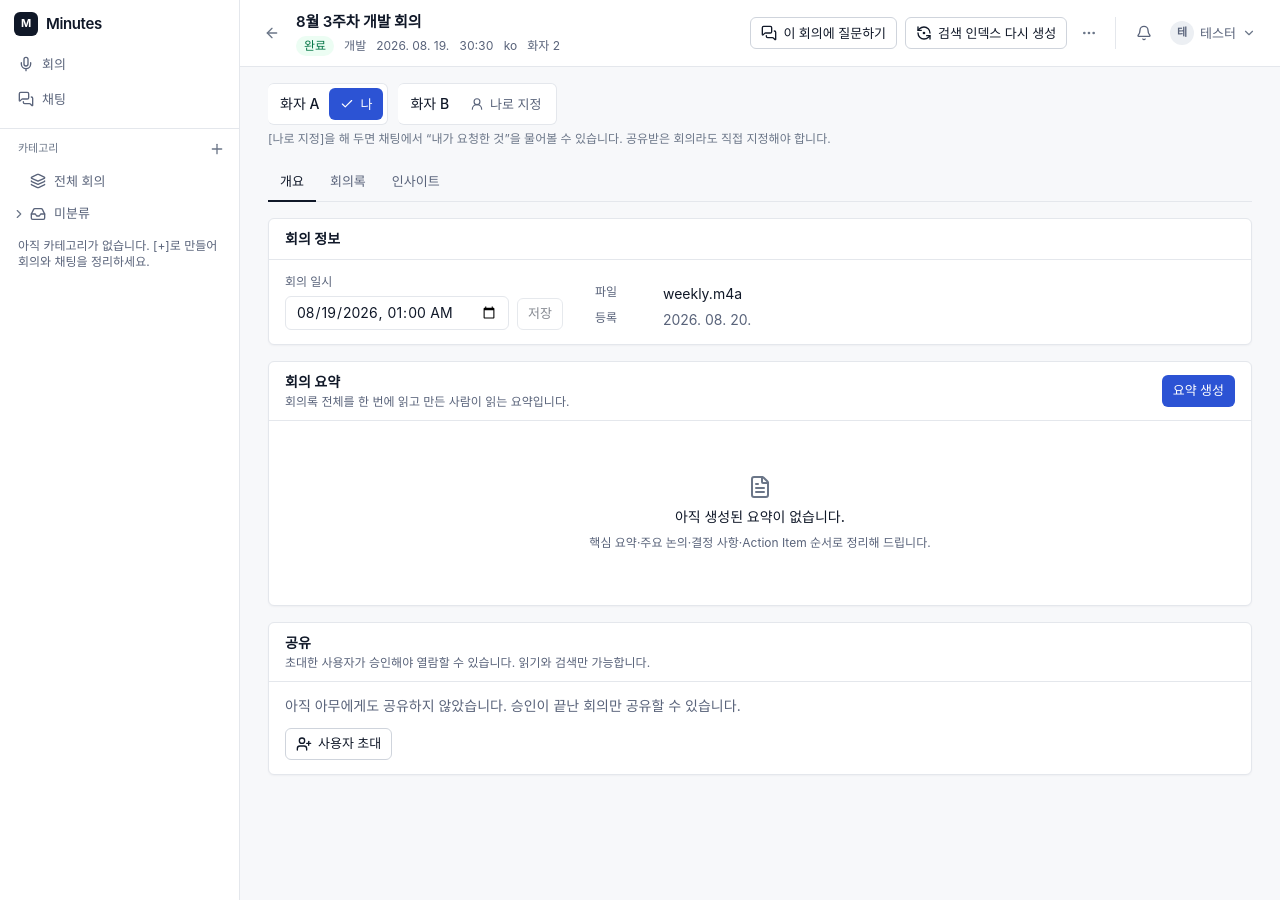
Test case: 공유 관리 (소유자) › 이미 초대한 사용자에게는 초대 버튼 대신 상태를 보여준다
This screenshot has width=1280, height=900.
Click the button "사용자 초대" at (339, 744), box [285,728,392,760]
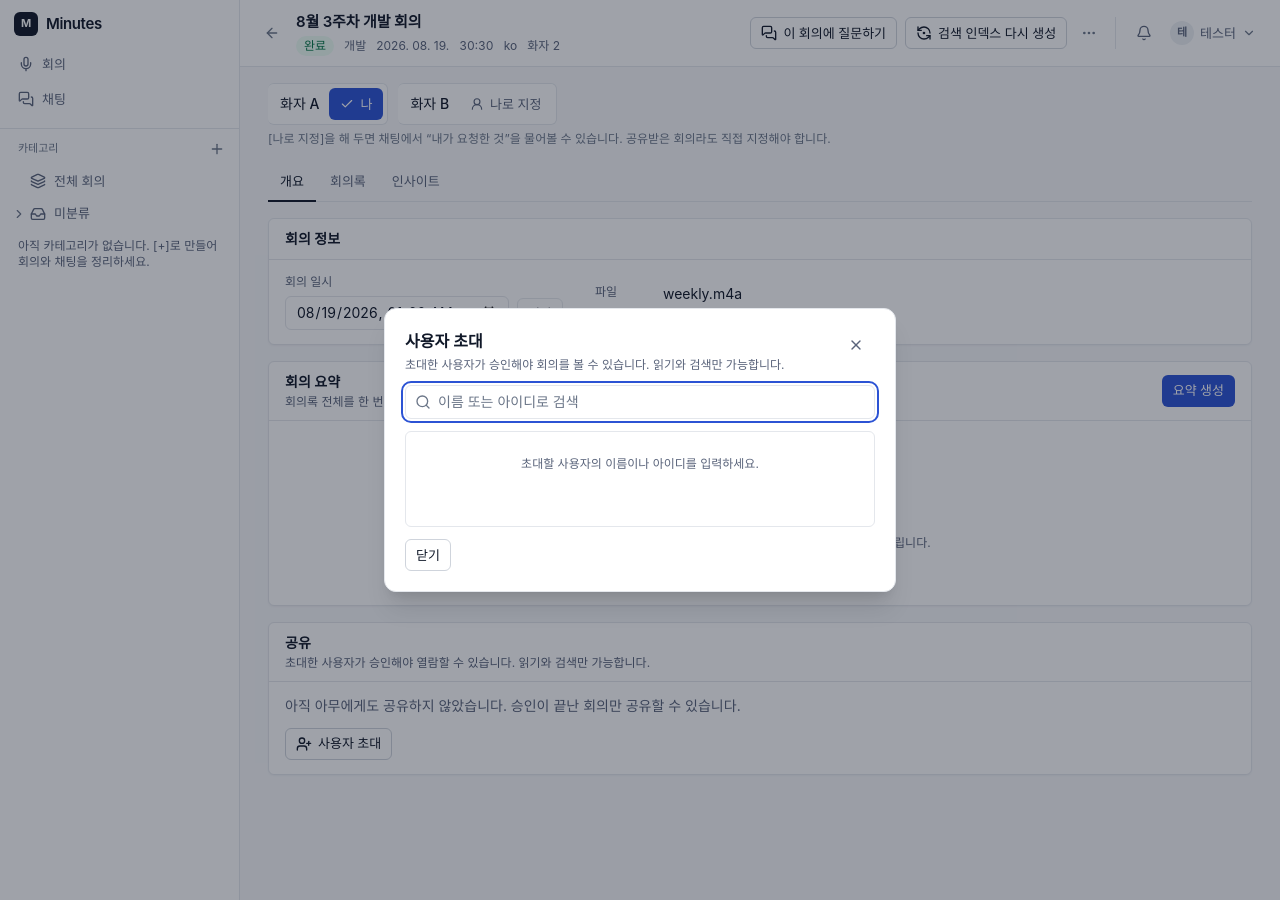
Type "user2" into the field named "사용자 검색" at (640, 402), box [405,385,875,419]
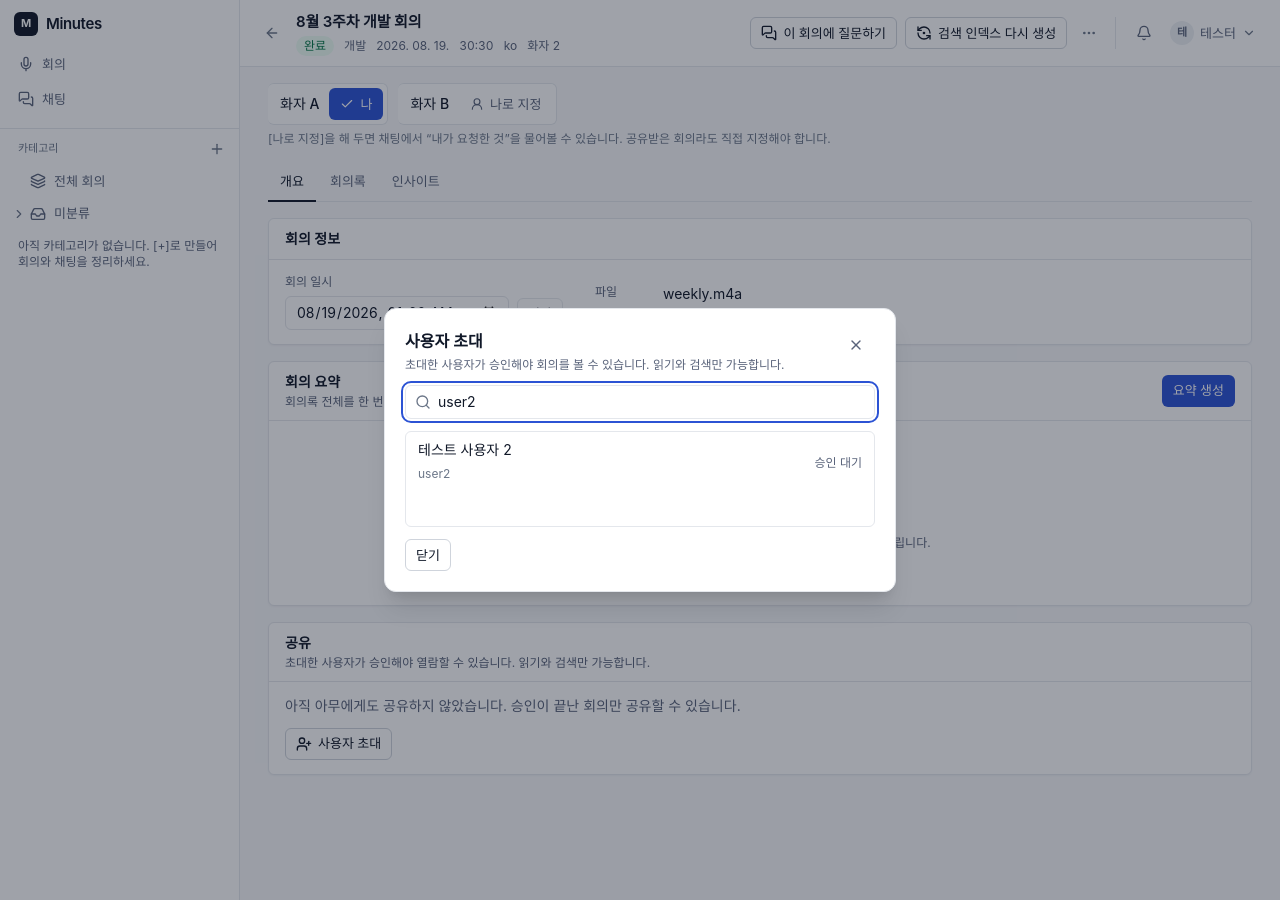
Check: the text "승인 대기" is shown, box [814,455,862,471]
